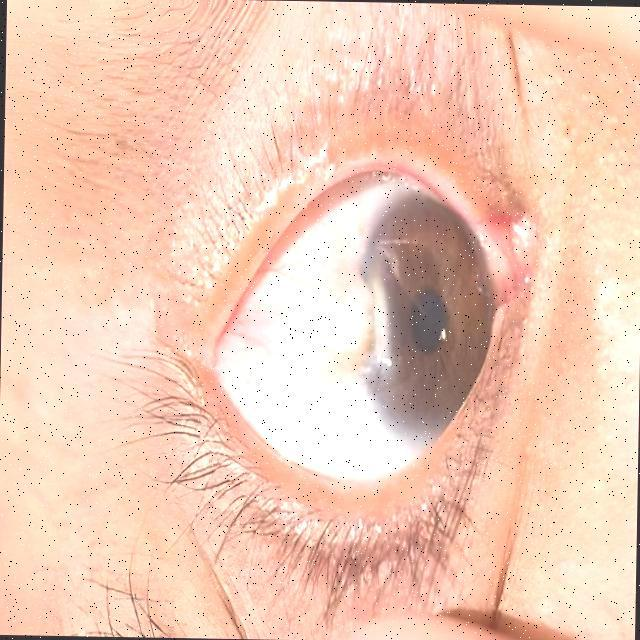Pterygium: (214, 244, 396, 413)
